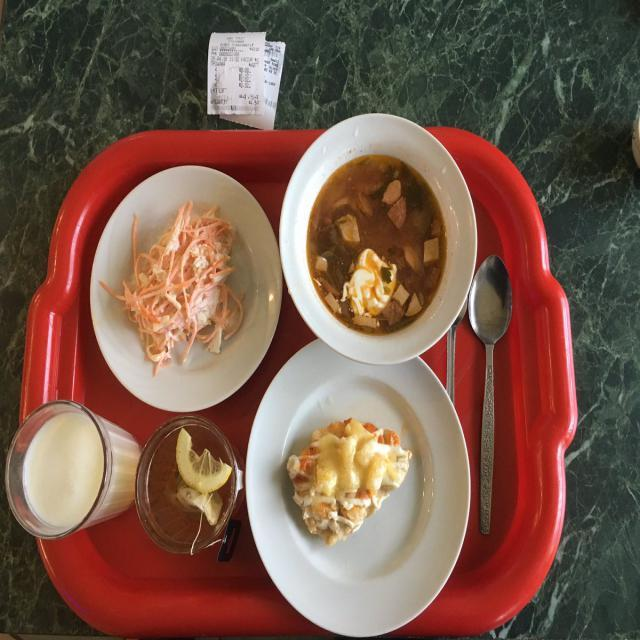plate: (242, 337, 472, 639), (274, 110, 482, 367), (84, 162, 282, 415), (2, 398, 148, 541), (133, 408, 246, 558)
